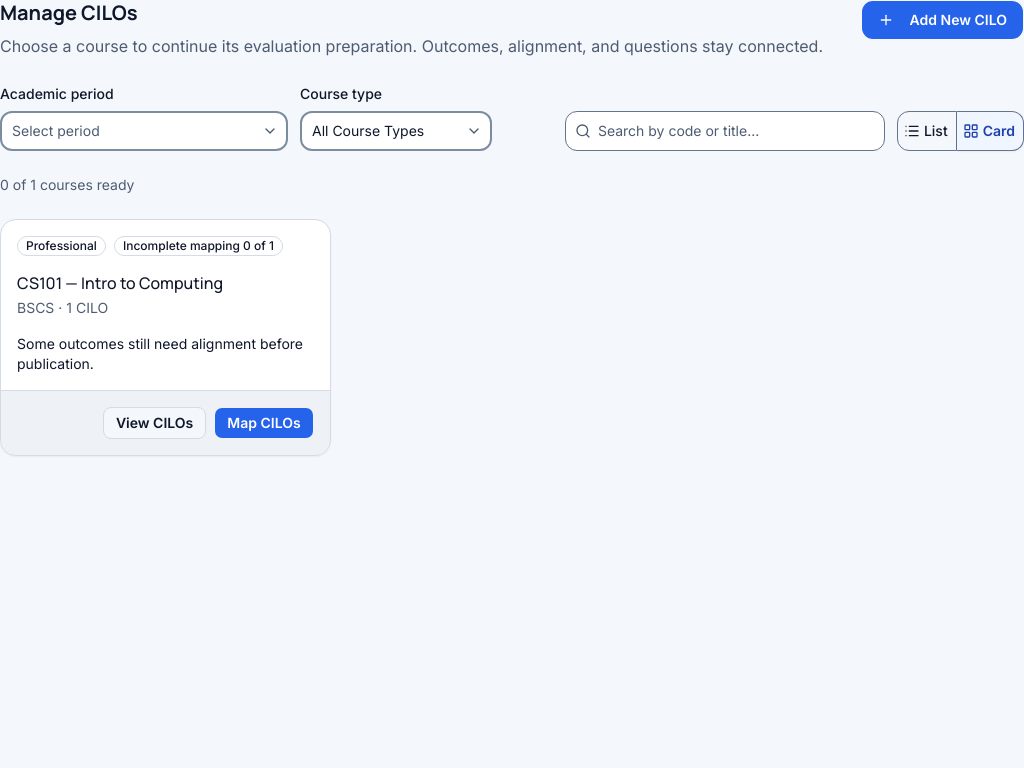
Test: FacultyCilosCourseList › loads and displays CILOs when the modal opens
Click the button with aria-label "View CILOs for CS101". click: (155,423)
box: [103,407,206,439]
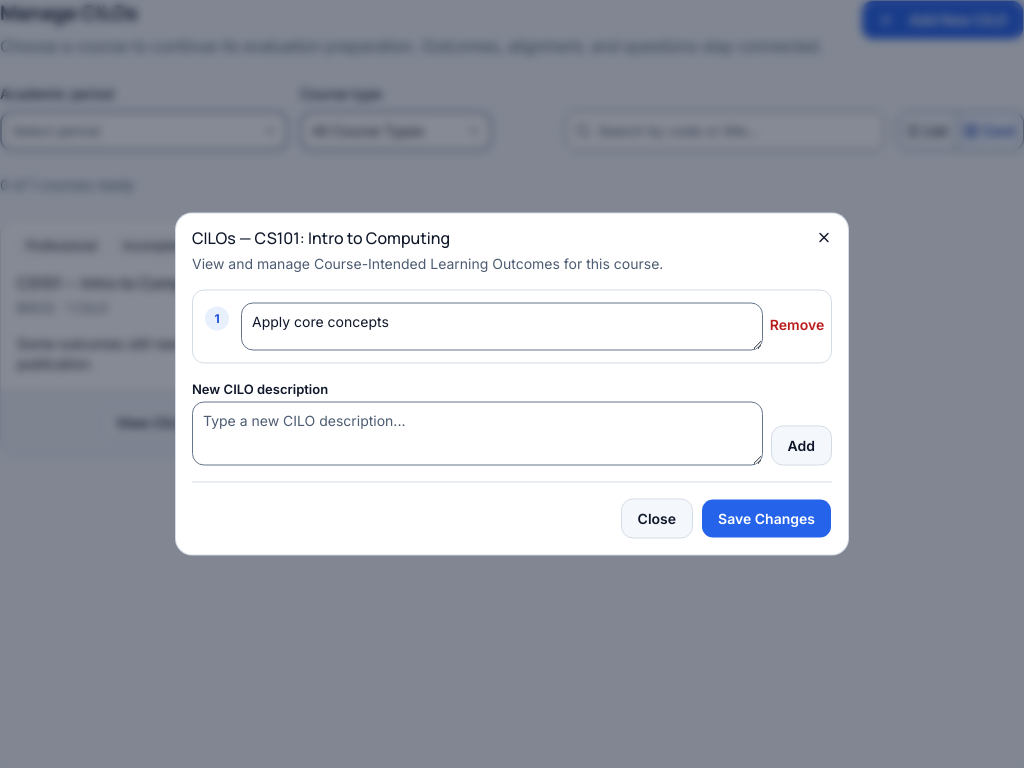
Expected: the dialog is shown, [176,214,848,554]
Expected: the text box showing "Apply core concepts" is shown, [241,302,763,350]
Expected: the heading "CILOs — CS101: Intro to Computing" is shown, [192,226,450,248]
